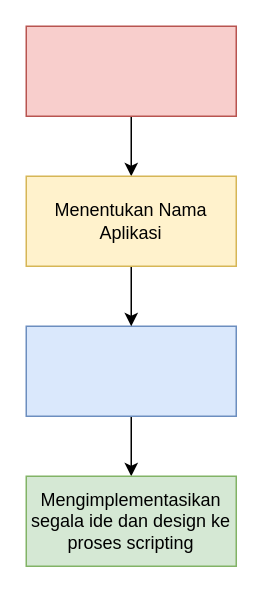
The diagram is 263 pixels wide and 593 high, and some of its shapes have lost their labels. Here are the shapes that lost their labels. From the top down, the centre of each, then its label:
At point (130, 70): "Menentukan Tema Aplikasi".
At point (130, 370): "Proses Design Aplikasi".
